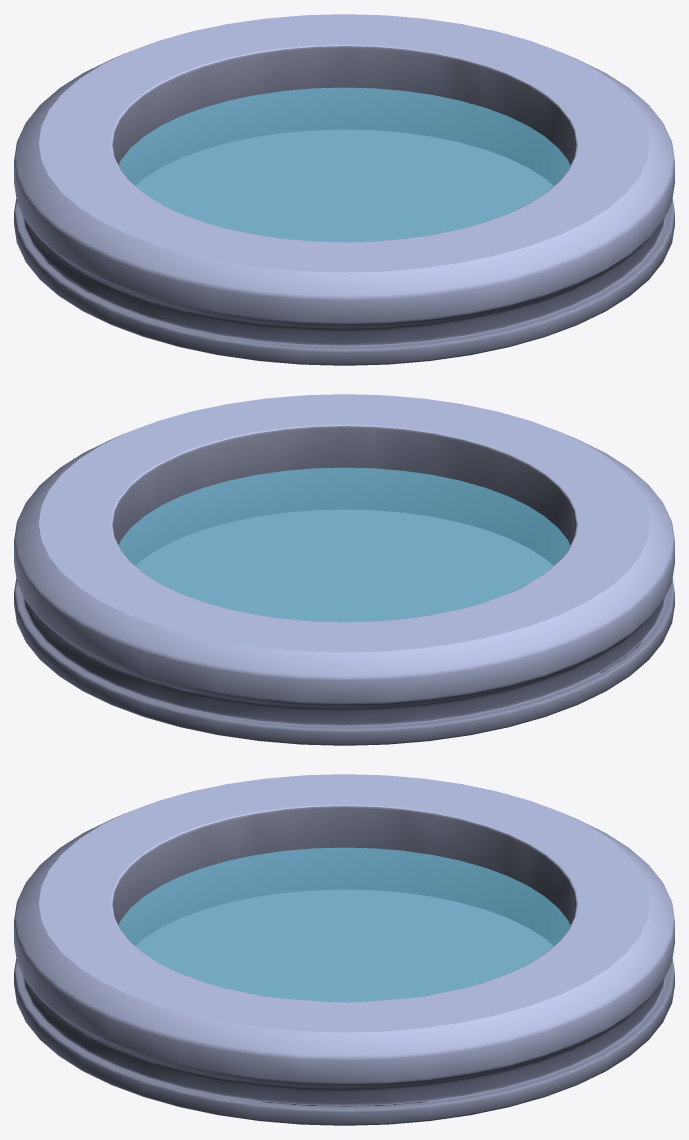
The model's file is fountain-round.glb.
The picture shows the model from 3 angles, top to bottom: view 1: azimuth 30°, elevation 25°; view 2: azimuth 150°, elevation 25°; view 3: azimuth 270°, elevation 25°; orthographic projection.
Visible parts, largest first — view 1: fountain-round, (%ignore); view 2: fountain-round, (%ignore); view 3: fountain-round, (%ignore).
Boxes of the visible parts, x1,y1,x2,y2 form: fountain-round: (14, 14, 674, 365); (%ignore): (118, 87, 570, 242); fountain-round: (14, 394, 674, 745); (%ignore): (118, 467, 570, 622); fountain-round: (14, 774, 674, 1125); (%ignore): (118, 847, 570, 1002).
Bounding box in the file's own units: 2 × 0.28 × 2.
2 materials, 1 textured.
